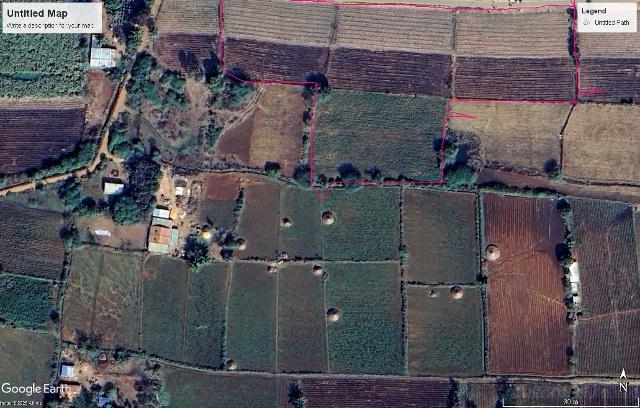DryFarms: (450, 99, 577, 174), (560, 100, 640, 187), (454, 10, 573, 58), (1, 35, 85, 101), (331, 7, 453, 51), (222, 1, 336, 46)
EmptyFarms: (484, 199, 572, 376), (217, 83, 308, 178), (325, 48, 452, 97), (0, 108, 87, 178), (454, 57, 579, 100), (223, 38, 328, 85), (235, 183, 282, 257), (306, 384, 446, 408), (573, 54, 640, 104), (153, 36, 219, 71), (203, 174, 240, 201)
Farms: (309, 91, 448, 184), (569, 198, 640, 379), (325, 261, 407, 378), (61, 249, 142, 353), (404, 283, 484, 376), (403, 190, 476, 285), (221, 261, 278, 372), (275, 261, 328, 374), (322, 188, 401, 263), (140, 253, 190, 365), (153, 363, 277, 408), (0, 198, 66, 281), (186, 263, 231, 368), (2, 327, 56, 408), (0, 273, 63, 331), (279, 184, 324, 260), (153, 0, 220, 32)
